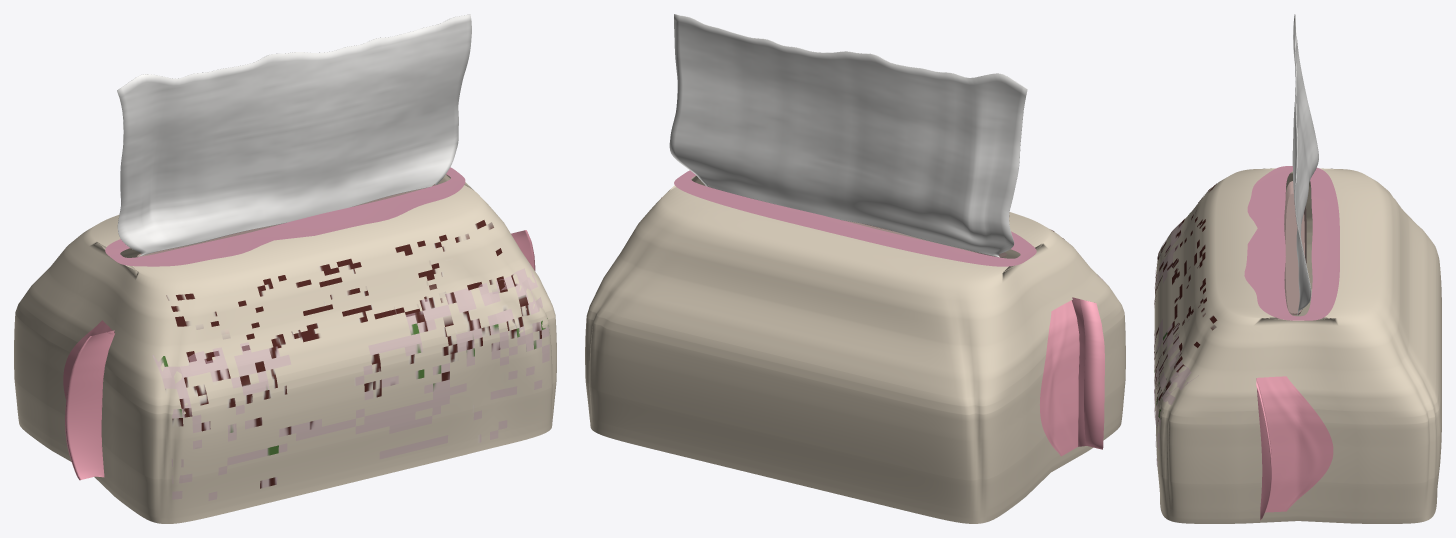
File: tissue_box_uv2.glb
3 views of the same model, side by side, from view 1: azimuth 30°, elevation 25°; view 2: azimuth 150°, elevation 25°; view 3: azimuth 270°, elevation 25° (orthographic). The views are drawn at different scales.
Visible parts, largest first — view 1: wrapper_body, tissue_sheet, wrapper_front_print, opening_membrane, left_end_seal, wrapper_top_print; view 2: wrapper_body, tissue_sheet, left_end_seal, opening_membrane; view 3: wrapper_body, opening_membrane, right_end_seal, tissue_sheet, wrapper_front_print, opening_cavity, wrapper_top_print.
Boxes of the visible parts, bbox=[...] form: wrapper_body: bbox=[14, 174, 556, 523]; tissue_sheet: bbox=[117, 14, 471, 256]; wrapper_front_print: bbox=[152, 263, 549, 500]; opening_membrane: bbox=[105, 167, 465, 266]; left_end_seal: bbox=[63, 320, 115, 480]; wrapper_top_print: bbox=[166, 220, 507, 363]; wrapper_body: bbox=[585, 175, 1125, 523]; tissue_sheet: bbox=[669, 14, 1027, 257]; left_end_seal: bbox=[1039, 297, 1104, 456]; opening_membrane: bbox=[674, 170, 1036, 266]; wrapper_body: bbox=[1154, 168, 1441, 523]; opening_membrane: bbox=[1244, 166, 1339, 320]; right_end_seal: bbox=[1256, 376, 1333, 520]; tissue_sheet: bbox=[1292, 14, 1318, 315]; wrapper_front_print: bbox=[1154, 212, 1198, 466]; opening_cavity: bbox=[1284, 181, 1306, 315]; wrapper_top_print: bbox=[1172, 183, 1217, 369].
Size of the model in its own units: 0.25 by 0.1964 by 0.1455.
Materials: 7 (5 with a texture image).
